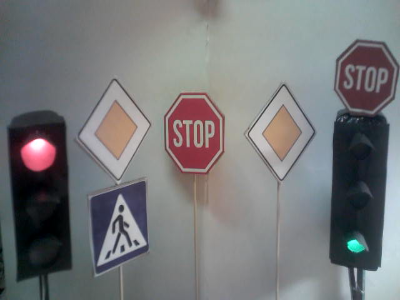crosswalk: (89, 182, 150, 277)
priority_road: (76, 80, 151, 179), (246, 83, 315, 178)
stop: (165, 93, 225, 175), (337, 42, 397, 114)
trafficlight_green: (330, 121, 388, 264)
trafficlight_red: (7, 121, 67, 274)
